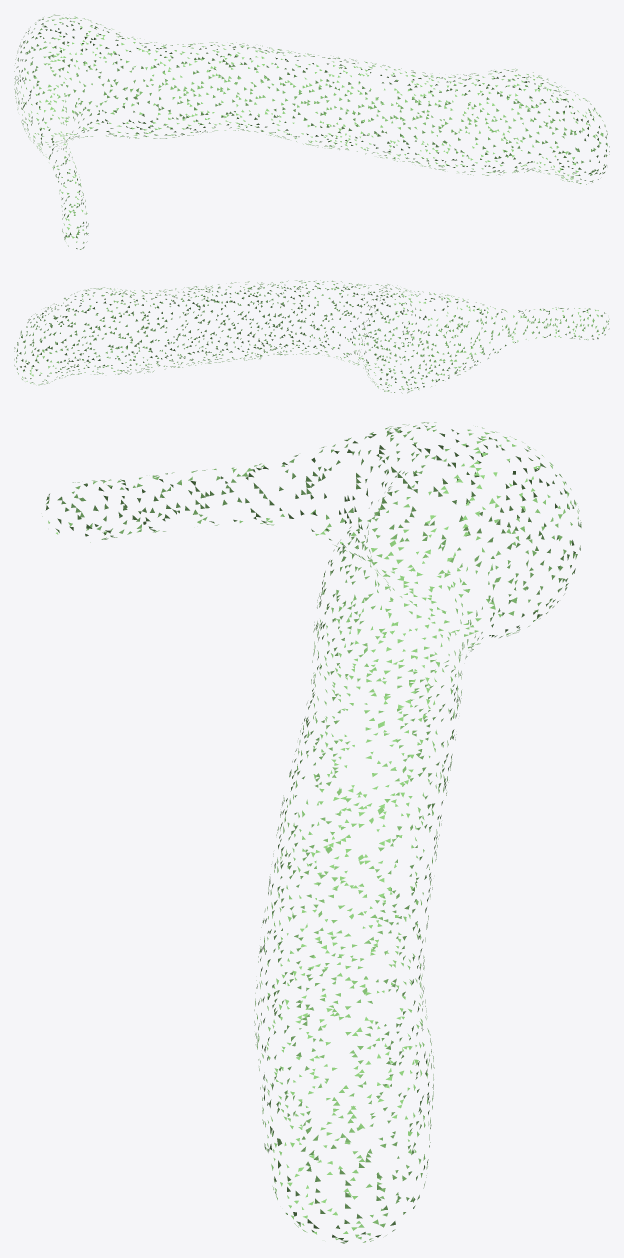
Rendered from morph_015.glb.
3 renders of one model, top to bottom at view 1: azimuth 30°, elevation 25°; view 2: azimuth 150°, elevation 25°; view 3: azimuth 270°, elevation 25°, orthographic. The views are drawn at different scales.
Bounding box in the file's own units: 136 × 52.68 × 62.22.
